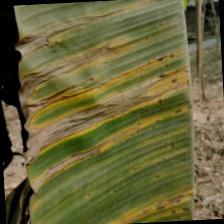pestalotiopsis: (12, 0, 198, 224)
